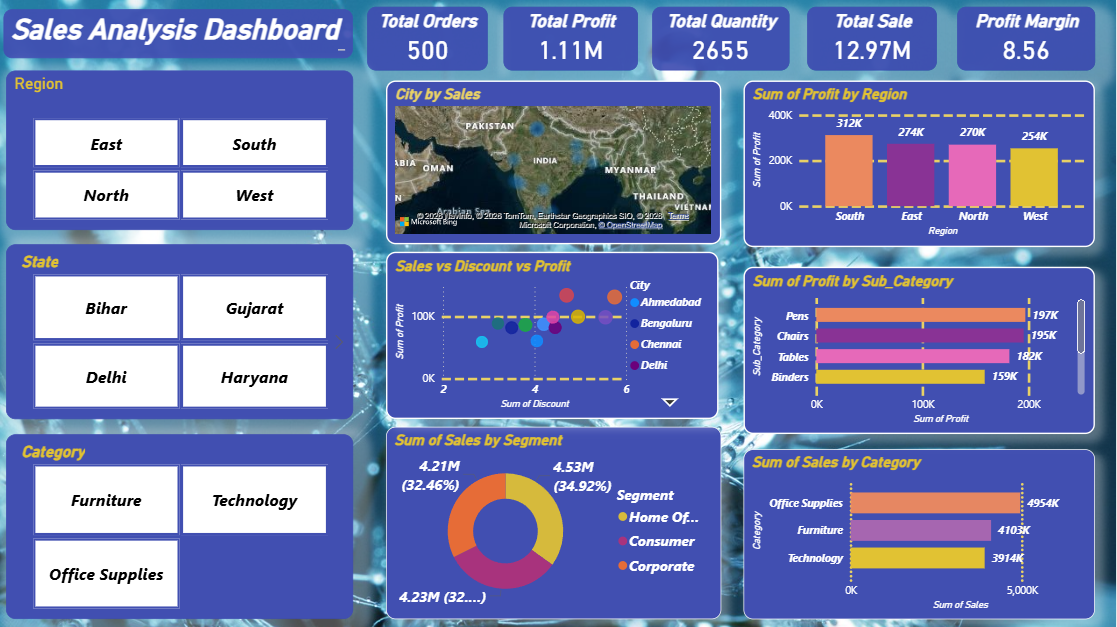

The dashboard page shown, as its layout file describes it:
{"tool":"powerbi","page":{"name":"Page 1","canvas":[1280,720],"ordinal":0},"visuals":[{"type":"card","title":"Total Orders","fields":{"Values":["Raw_Sales_Data.Total Orders"]},"box":[424,9.6,137.2,72.7],"z":0},{"type":"textbox","title":"Sales Analysis Dashboard","box":[8.2,12.3,399.3,56.3],"z":1000},{"type":"card","title":"Total Profit","fields":{"Values":["Raw_Sales_Data.Total_profit"]},"box":[580.4,9.6,153.7,72.7],"z":2000},{"type":"card","title":"Total Quantity","fields":{"Values":["Raw_Sales_Data.Total_quantity"]},"box":[750.6,9.6,156.4,72.7],"z":3000},{"type":"card","title":"Total Sales","fields":{"Values":["Raw_Sales_Data.Total_sale"]},"box":[927.6,9.6,148.2,72.7],"z":4000},{"type":"card","title":"Profit Margin","fields":{"Values":["Raw_Sales_Data.Profit Margin %"]},"box":[1099.1,9.6,157.8,72.7],"z":5000},{"type":"slicer","title":"Region","fields":{"Values":["Raw_Sales_Data.Region"]},"box":[11,82.3,396.6,182.5],"z":6000},{"type":"clusteredBarChart","fields":{"Category":["Raw_Sales_Data.Category"],"Y":["Sum(Raw_Sales_Data.Sales)"]},"box":[854.3,515.7,401.4,194.3],"z":7000},{"type":"barChart","fields":{"Category":["Raw_Sales_Data.Sub_Category"],"Y":["Sum(Raw_Sales_Data.Profit)"]},"box":[854.3,307.1,401.4,191.4],"z":8000},{"type":"map","title":"City by Sales","fields":{"Category":["Raw_Sales_Data.City"]},"box":[445.7,94.3,382.9,187.1],"z":9000},{"type":"clusteredColumnChart","fields":{"Y":["Sum(Raw_Sales_Data.Profit)"],"Category":["Raw_Sales_Data.Region"]},"box":[854.3,94.3,401.4,190],"z":10000},{"type":"donutChart","fields":{"Category":["Raw_Sales_Data.Segment"],"Y":["Sum(Raw_Sales_Data.Sales)"]},"box":[445.7,490,382.9,220],"z":11000},{"type":"scatterChart","title":"Sales vs Discount vs Profit","fields":{"Size":["Sum(Raw_Sales_Data.Sales)"],"X":["Sum(Raw_Sales_Data.Discount)"],"Y":["Sum(Raw_Sales_Data.Profit)"],"Series":["Raw_Sales_Data.City"]},"box":[445.7,290,380,191.4],"z":12000},{"type":"slicer","fields":{"Values":["Raw_Sales_Data.State"]},"box":[11,281.3,396.6,200.3],"z":13000},{"type":"slicer","fields":{"Values":["Raw_Sales_Data.Category"]},"box":[11,498.1,396.6,211.3],"z":14000}]}

Visuals, with their boxes in screenshot pixels (x1, y1, x2, y2), scaled from the page's 1280x720 canvas onto the 1117x627 screenshot:
"Total Orders" card: bbox=[370, 8, 490, 72]
"Sales Analysis Dashboard" textbox: bbox=[7, 11, 356, 60]
"Total Profit" card: bbox=[506, 8, 641, 72]
"Total Quantity" card: bbox=[655, 8, 791, 72]
"Total Sales" card: bbox=[809, 8, 939, 72]
"Profit Margin" card: bbox=[959, 8, 1097, 72]
"Region" slicer: bbox=[10, 72, 356, 231]
clusteredBarChart - Raw_Sales_Data.Category x Sum(Raw_Sales_Data.Sales): bbox=[746, 449, 1096, 618]
barChart - Raw_Sales_Data.Sub_Category x Sum(Raw_Sales_Data.Profit): bbox=[746, 267, 1096, 434]
"City by Sales" map: bbox=[389, 82, 723, 245]
clusteredColumnChart - Sum(Raw_Sales_Data.Profit) x Raw_Sales_Data.Region: bbox=[746, 82, 1096, 248]
donutChart - Raw_Sales_Data.Segment x Sum(Raw_Sales_Data.Sales): bbox=[389, 427, 723, 618]
"Sales vs Discount vs Profit" scatterChart: bbox=[389, 253, 721, 419]
slicer - Raw_Sales_Data.State: bbox=[10, 245, 356, 419]
slicer - Raw_Sales_Data.Category: bbox=[10, 434, 356, 618]
